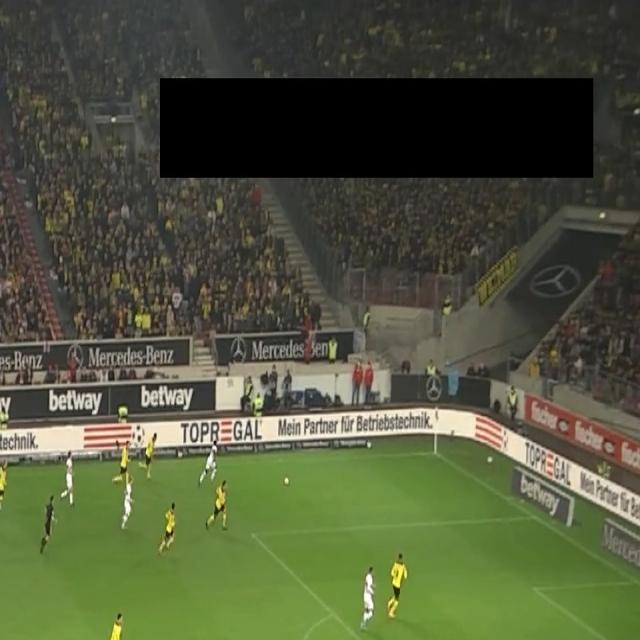ball: (283, 474, 290, 487)
